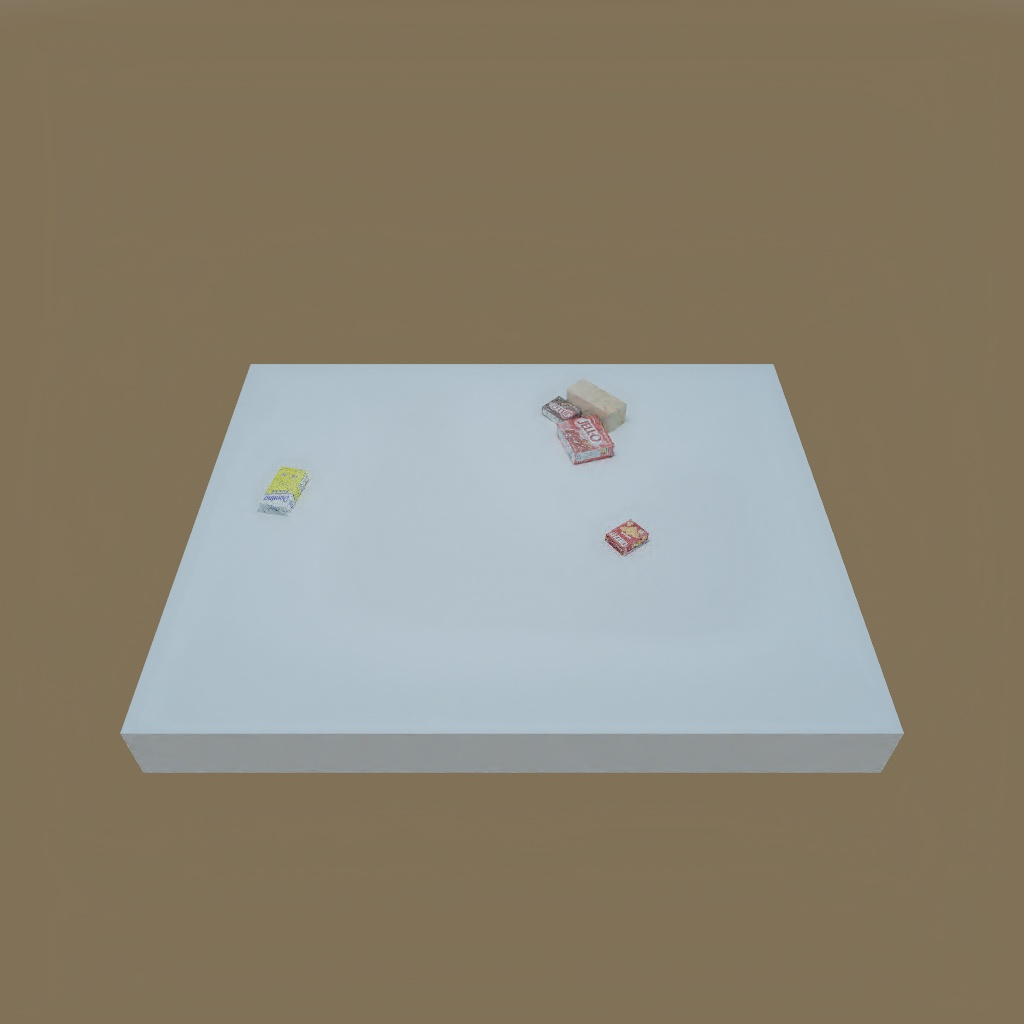gelatin_box: (556, 415, 619, 469)
pudding_box: (541, 394, 582, 424)
wood_block: (561, 375, 628, 433)
